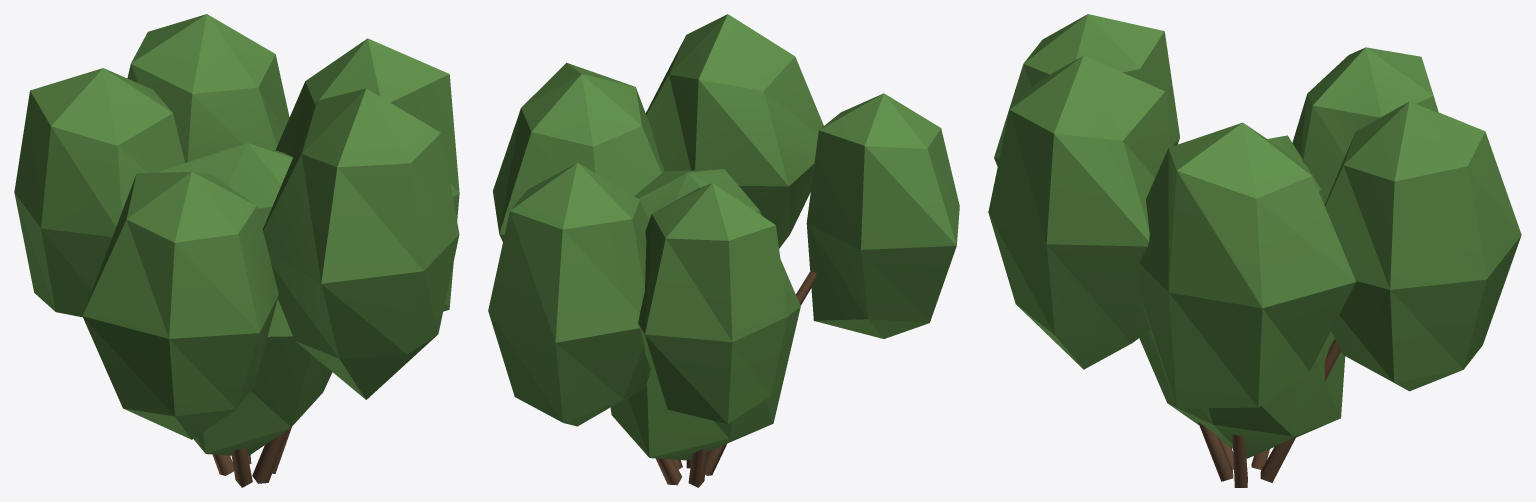
File: hazel_0.glb
The picture shows the model from 3 angles, left to right: view 1: azimuth 30°, elevation 25°; view 2: azimuth 150°, elevation 25°; view 3: azimuth 270°, elevation 25°; orthographic projection. The views are drawn at different scales.
Parts seen in each view (by area): view 1: hazel_0; view 2: hazel_0; view 3: hazel_0.
Boxes of the visible parts, x1,y1,x2,y2 form: hazel_0: [14, 14, 459, 487]; hazel_0: [488, 14, 959, 487]; hazel_0: [988, 14, 1521, 487].
Bounding box in the file's own units: 2.51 × 2.42 × 2.65.
